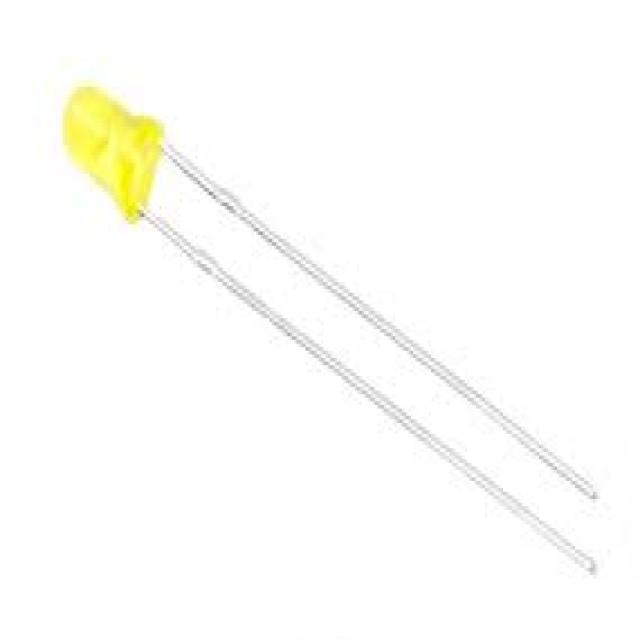Led: (64, 88, 594, 552)
